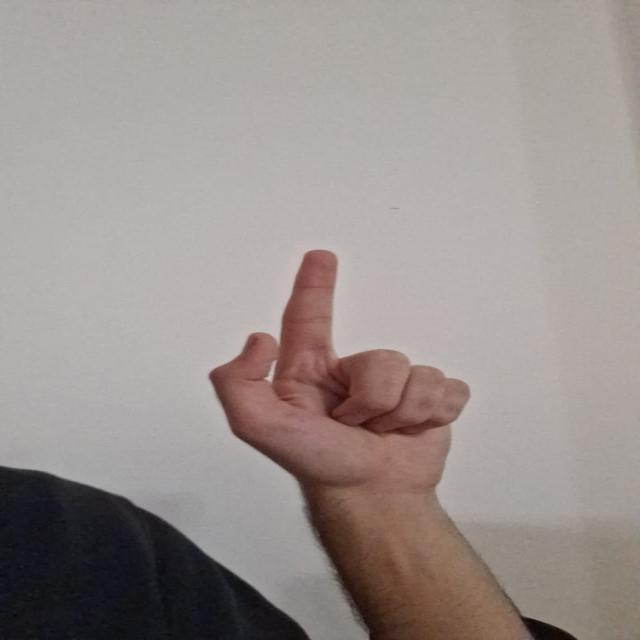G: (196, 237, 504, 505)
